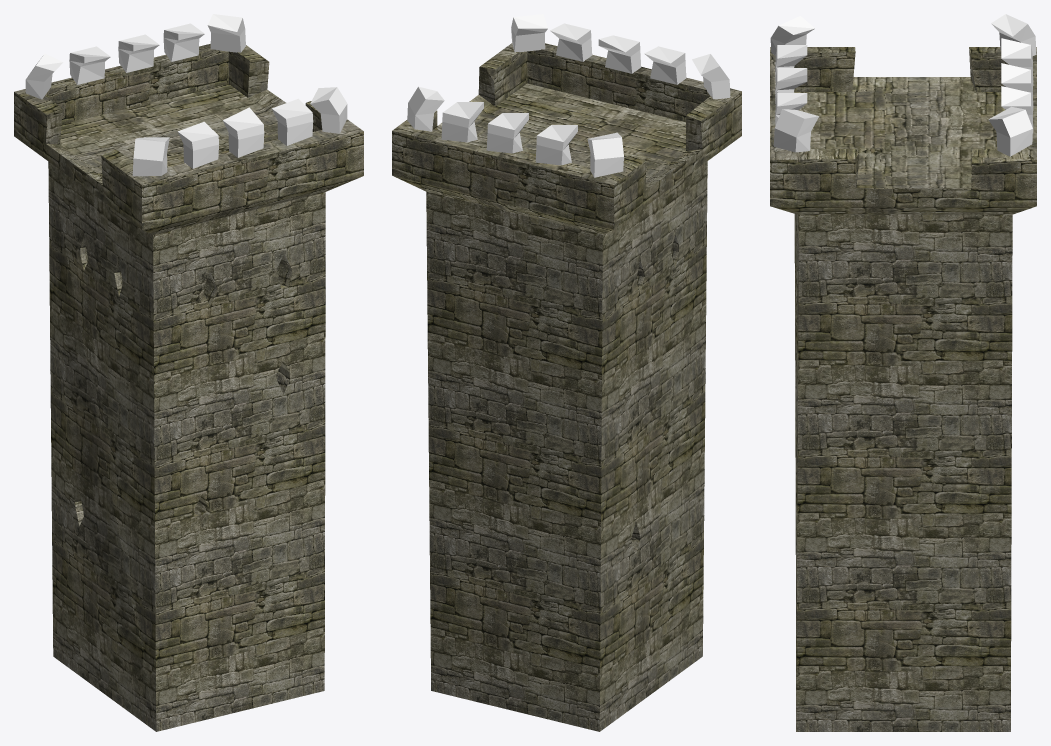
Rendered from tower2_LOD1.fbx.
The picture shows the model from 3 angles, left to right: view 1: azimuth 30°, elevation 25°; view 2: azimuth 150°, elevation 25°; view 3: azimuth 270°, elevation 25°; orthographic projection. The views are drawn at different scales.
Parts seen in each view (by area): view 1: Default_Layer; view 2: Default_Layer; view 3: Default_Layer.
Boxes of the visible parts, x1,y1,x2,y2 form: Default_Layer: (14,14,363,731); Default_Layer: (392,14,741,731); Default_Layer: (770,14,1036,731).
Bounding box in the file's own units: 1059 × 2695 × 1047.
